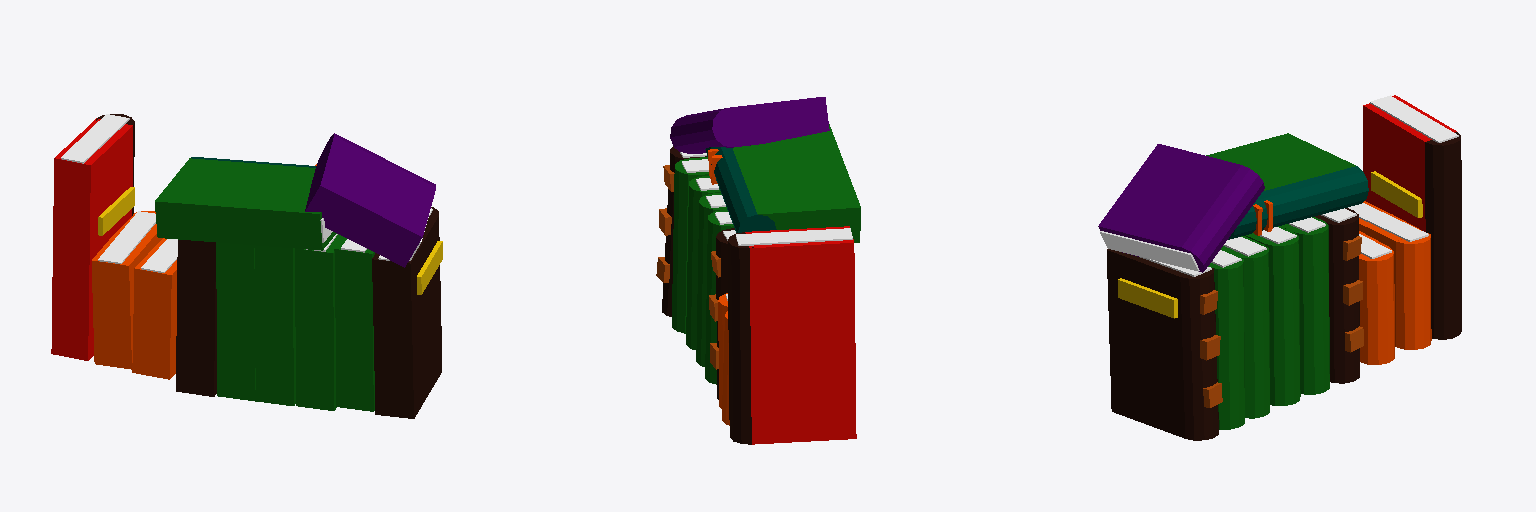
The picture shows the model from 3 angles: view 1: azimuth 30°, elevation 25°; view 2: azimuth 150°, elevation 25°; view 3: azimuth 270°, elevation 25°; orthographic projection.
Visible parts, largest first — view 1: group[number redacted], group[number redacted], group[number redacted], group[number redacted], group[number redacted], group[number redacted], group[number redacted], group[number redacted], group[number redacted], group[number redacted], group[number redacted]; view 2: group[number redacted], group[number redacted], group[number redacted], group[number redacted], group[number redacted], group[number redacted], group[number redacted], group[number redacted], group[number redacted], group[number redacted], group[number redacted]; view 3: group[number redacted], group[number redacted], group[number redacted], group[number redacted], group[number redacted], group[number redacted], group[number redacted], group[number redacted], group[number redacted], group[number redacted], group[number redacted].
Boxes of the visible parts, x1,y1,x2,y2 form: group[number redacted]: [51, 114, 134, 360]; group[number redacted]: [155, 157, 336, 250]; group[number redacted]: [372, 207, 442, 418]; group[number redacted]: [305, 133, 436, 267]; group[number redacted]: [295, 234, 342, 410]; group[number redacted]: [92, 211, 162, 369]; group[number redacted]: [254, 245, 295, 405]; group[number redacted]: [334, 237, 374, 411]; group[number redacted]: [176, 240, 216, 396]; group[number redacted]: [216, 242, 255, 401]; group[number redacted]: [132, 238, 177, 379]; group[number redacted]: [728, 226, 856, 444]; group[number redacted]: [705, 124, 860, 242]; group[number redacted]: [670, 97, 829, 153]; group[number redacted]: [672, 157, 708, 333]; group[number redacted]: [686, 176, 720, 349]; group[number redacted]: [656, 146, 706, 316]; group[number redacted]: [696, 193, 726, 366]; group[number redacted]: [705, 210, 733, 384]; group[number redacted]: [709, 228, 735, 399]; group[number redacted]: [718, 293, 727, 408]; group[number redacted]: [722, 311, 729, 425]; group[number redacted]: [1107, 249, 1222, 440]; group[number redacted]: [1363, 95, 1461, 339]; group[number redacted]: [1098, 144, 1264, 272]; group[number redacted]: [1206, 133, 1368, 239]; group[number redacted]: [1348, 201, 1431, 349]; group[number redacted]: [1245, 226, 1300, 405]; group[number redacted]: [1315, 208, 1363, 383]; group[number redacted]: [1281, 217, 1329, 394]; group[number redacted]: [1208, 248, 1244, 429]; group[number redacted]: [1222, 236, 1269, 418]; group[number redacted]: [1359, 231, 1394, 364].
Size of the model in its own units: 0.6746 by 0.5273 by 0.7254.